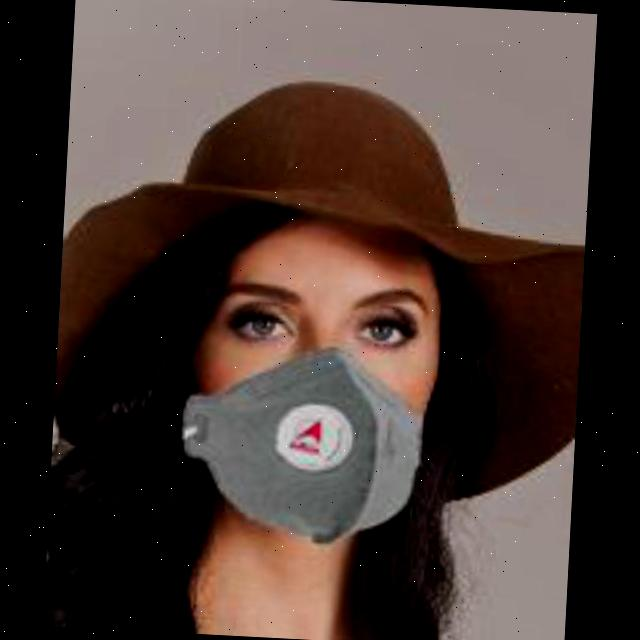suspicion: (106, 206, 466, 566)
